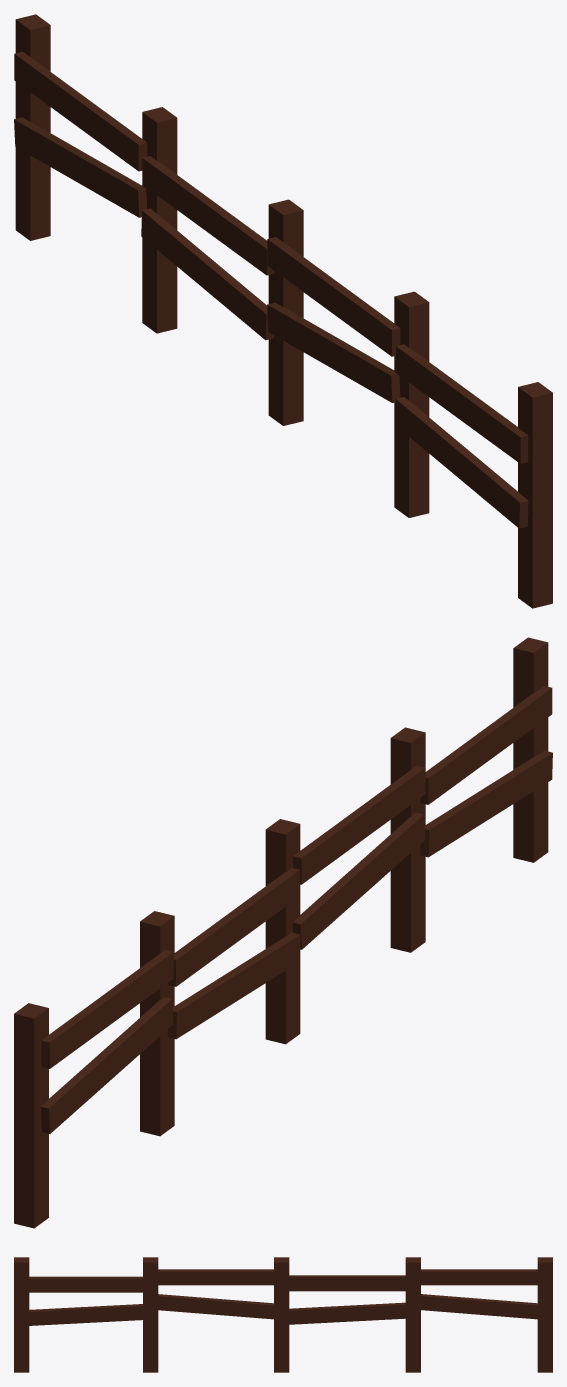
Rendered from wood_fence.FBX.
3 views of the same model, one above another, from view 1: azimuth 30°, elevation 25°; view 2: azimuth 150°, elevation 25°; view 3: azimuth 270°, elevation 25° (orthographic). The views are drawn at different scales.
Visible parts, largest first — view 1: Box143, Box155, Box149, Box146, Box152, Box144, Box145, Box147, Box153, Box150, Box151, Box148 (+1 smaller); view 2: Box155, Box143, Box146, Box149, Box152, Box154, Box148, Box153, Box147, Box145, Box151, Box144 (+1 smaller); view 3: Box151, Box153, Box147, Box154, Box150, Box148, Box145, Box144, Box143, Box146, Box149, Box152 (+1 smaller).
Boxes of the visible parts, x1=… form: Box143: x1=518, y1=382, x2=552, y2=608; Box155: x1=15, y1=14, x2=50, y2=240; Box149: x1=268, y1=199, x2=303, y2=425; Box146: x1=394, y1=291, x2=429, y2=517; Box152: x1=142, y1=107, x2=177, y2=333; Box144: x1=395, y1=397, x2=528, y2=528; Box145: x1=396, y1=344, x2=528, y2=463; Box147: x1=267, y1=237, x2=400, y2=356; Box153: x1=14, y1=51, x2=147, y2=171; Box150: x1=141, y1=208, x2=274, y2=340; Box151: x1=142, y1=156, x2=274, y2=275; Box148: x1=267, y1=302, x2=400, y2=402; Box155: x1=14, y1=1003, x2=48, y2=1228; Box143: x1=513, y1=637, x2=548, y2=862; Box146: x1=390, y1=727, x2=425, y2=952; Box149: x1=265, y1=819, x2=300, y2=1044; Box152: x1=140, y1=911, x2=174, y2=1136; Box154: x1=40, y1=997, x2=173, y2=1133; Box148: x1=292, y1=812, x2=425, y2=949; Box153: x1=41, y1=950, x2=173, y2=1068; Box147: x1=293, y1=765, x2=425, y2=884; Box145: x1=420, y1=686, x2=552, y2=804; Box151: x1=168, y1=868, x2=299, y2=986; Box144: x1=420, y1=750, x2=552, y2=857; Box151: x1=289, y1=1275, x2=405, y2=1291; Box153: x1=421, y1=1269, x2=537, y2=1285; Box147: x1=158, y1=1269, x2=273, y2=1285; Box154: x1=421, y1=1294, x2=537, y2=1319; Box150: x1=289, y1=1302, x2=405, y2=1324; Box148: x1=158, y1=1294, x2=273, y2=1319; Box145: x1=29, y1=1276, x2=142, y2=1292; Box144: x1=29, y1=1304, x2=142, y2=1325; Box143: x1=14, y1=1257, x2=29, y2=1372; Box146: x1=143, y1=1257, x2=158, y2=1372; Box149: x1=274, y1=1257, x2=289, y2=1372; Box152: x1=405, y1=1257, x2=420, y2=1372.
Size of the model in its own units: 0.9889 by 6.88 by 30.57.
